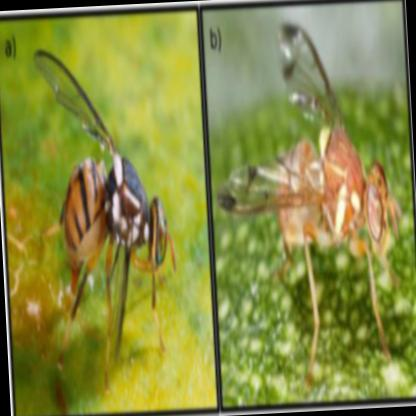fruit fly: (217, 22, 399, 387), (36, 46, 178, 386)
